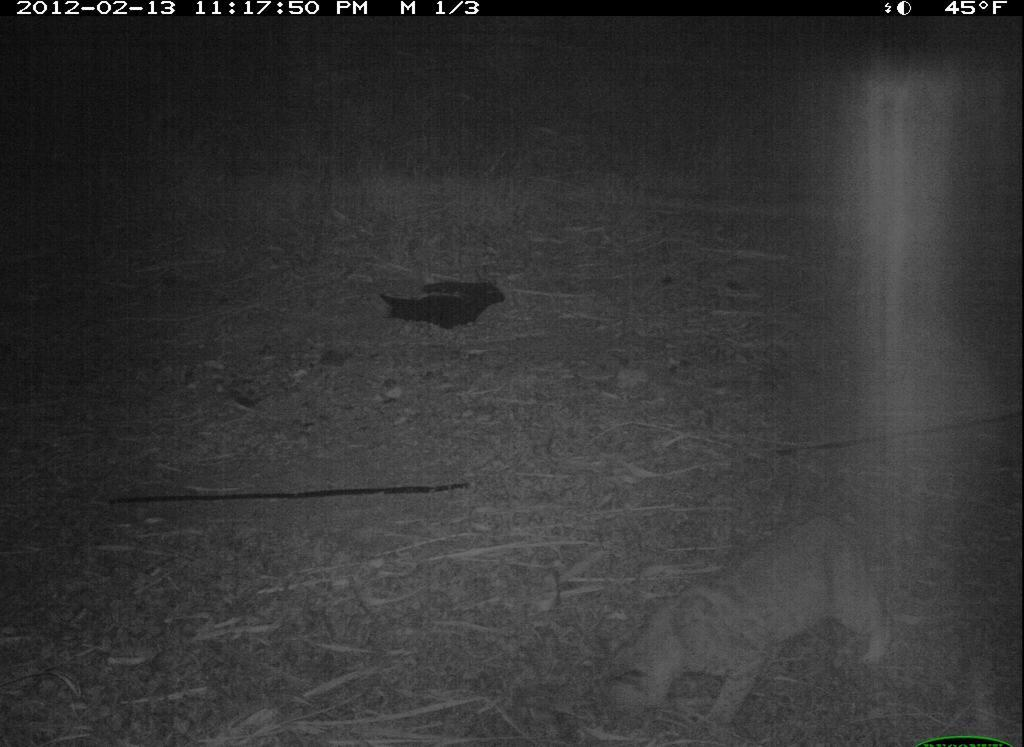bobcat: (589, 510, 911, 720)
